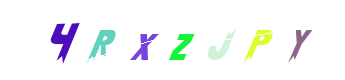4: (24, 0, 104, 80)
J: (156, 0, 236, 80)
P: (160, 0, 240, 80)
R: (66, 0, 146, 80)
X: (133, 0, 213, 80)
Y: (219, 0, 299, 80)
Z: (141, 0, 221, 80)
